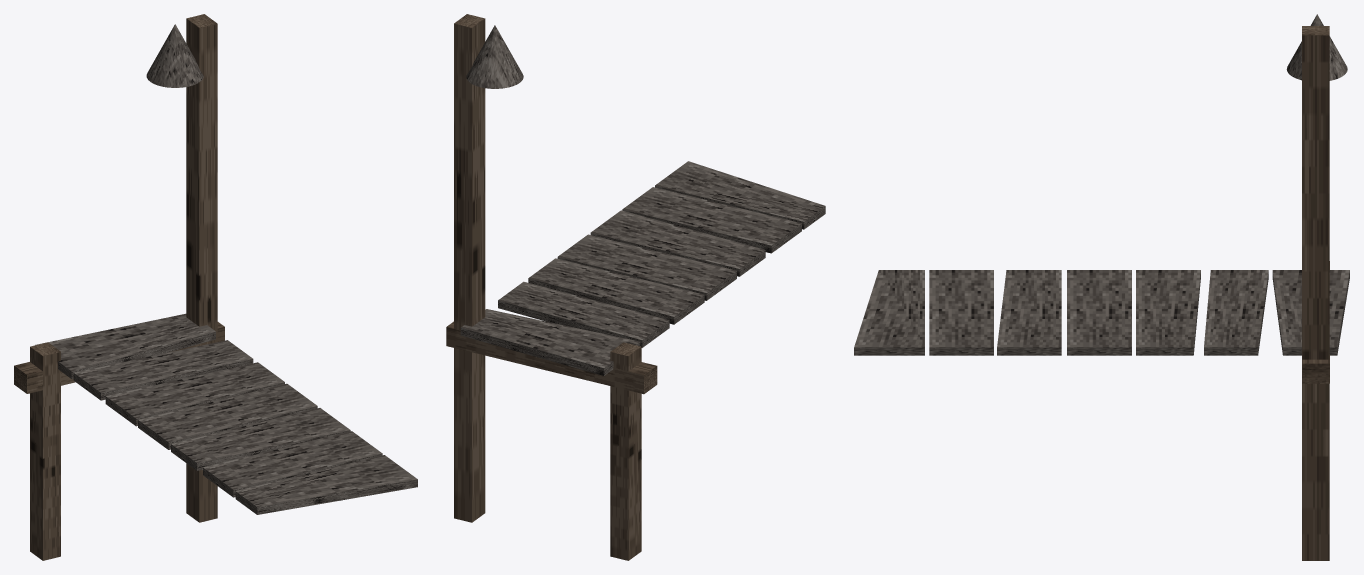
Rendered from Palette_com_poste.fbx.
The picture shows the model from 3 angles, left to right: view 1: azimuth 30°, elevation 25°; view 2: azimuth 150°, elevation 25°; view 3: azimuth 270°, elevation 25°; orthographic projection. The views are drawn at different scales.
Parts seen in each view (by area): view 1: Cone; view 2: Cone; view 3: Cone.
Boxes of the visible parts, x1,y1,x2,y2 form: Cone: (14,14,417,560); Cone: (446,14,825,560); Cone: (854,14,1349,560).
Bounding box in the file's own units: 285 × 686 × 583.
